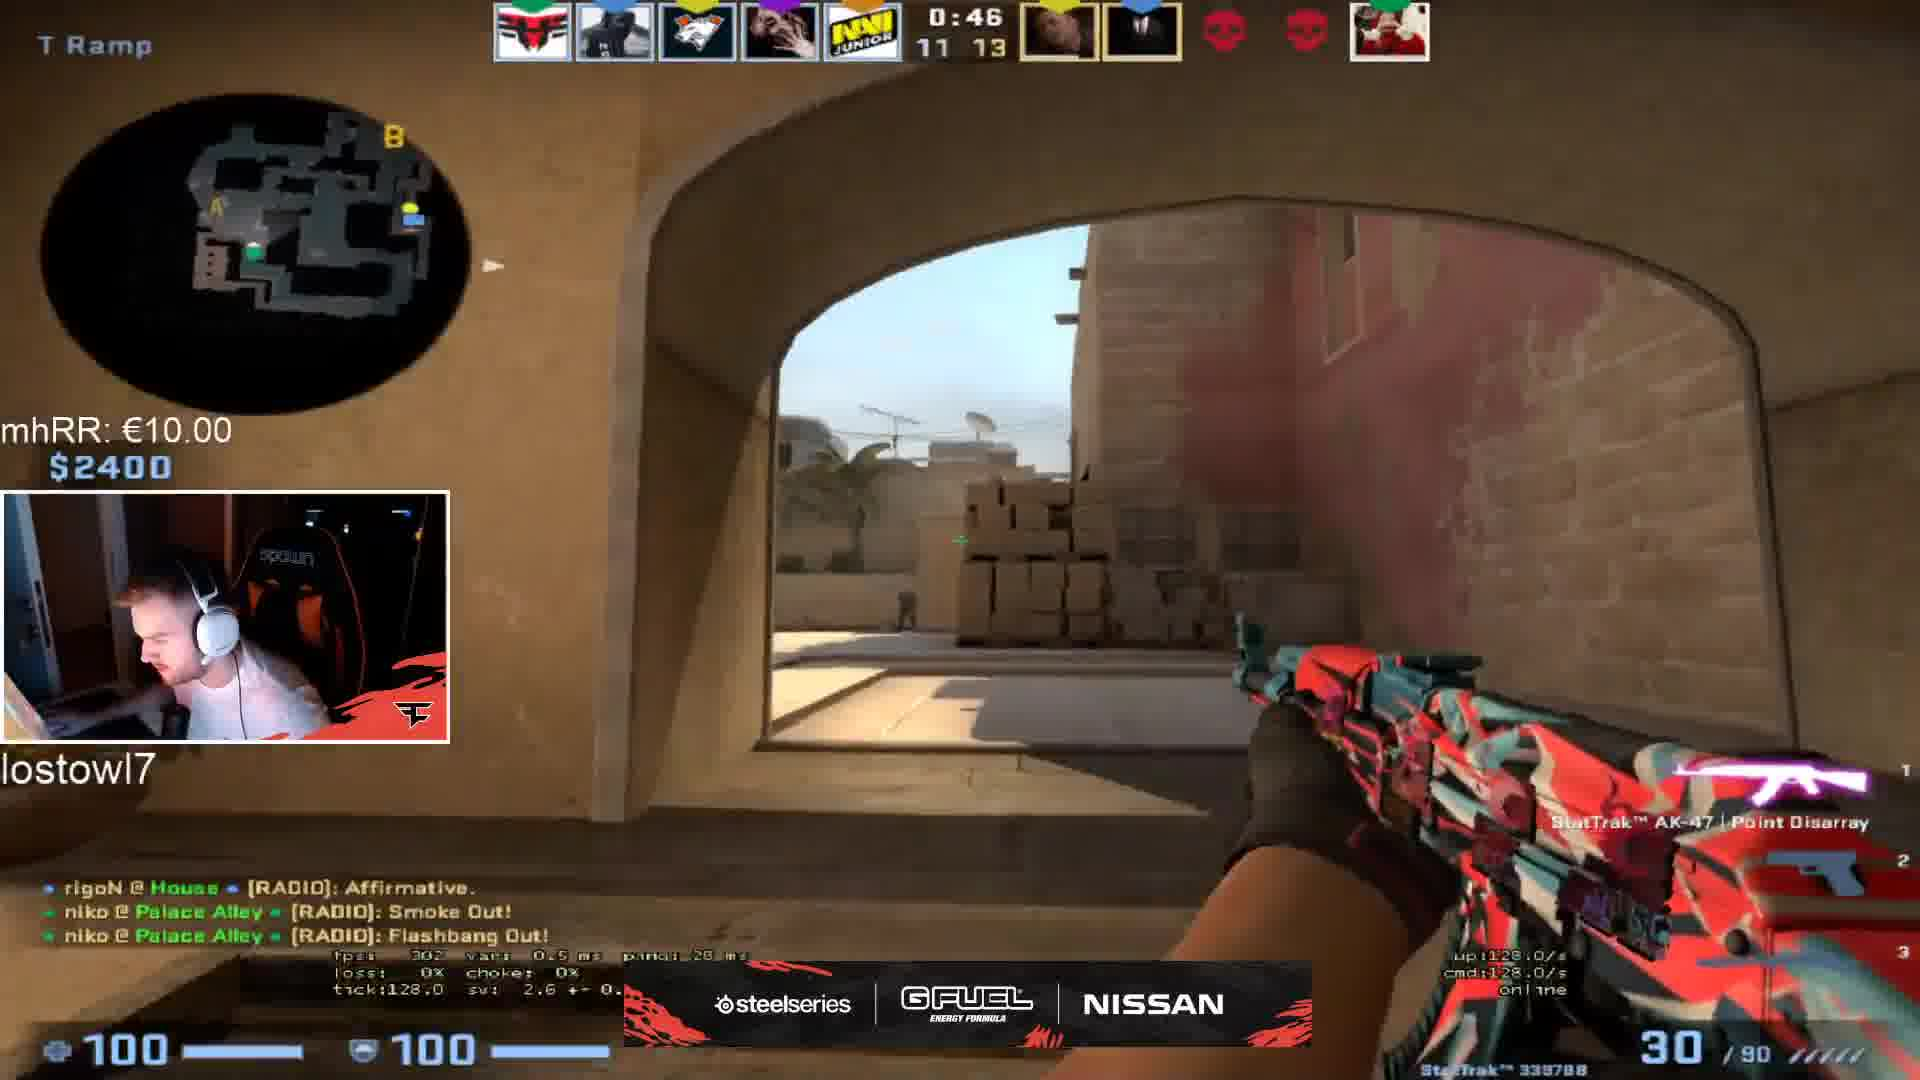enemy: (890, 582, 924, 637)
